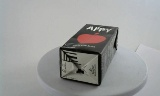appy: (55, 24, 111, 85)
